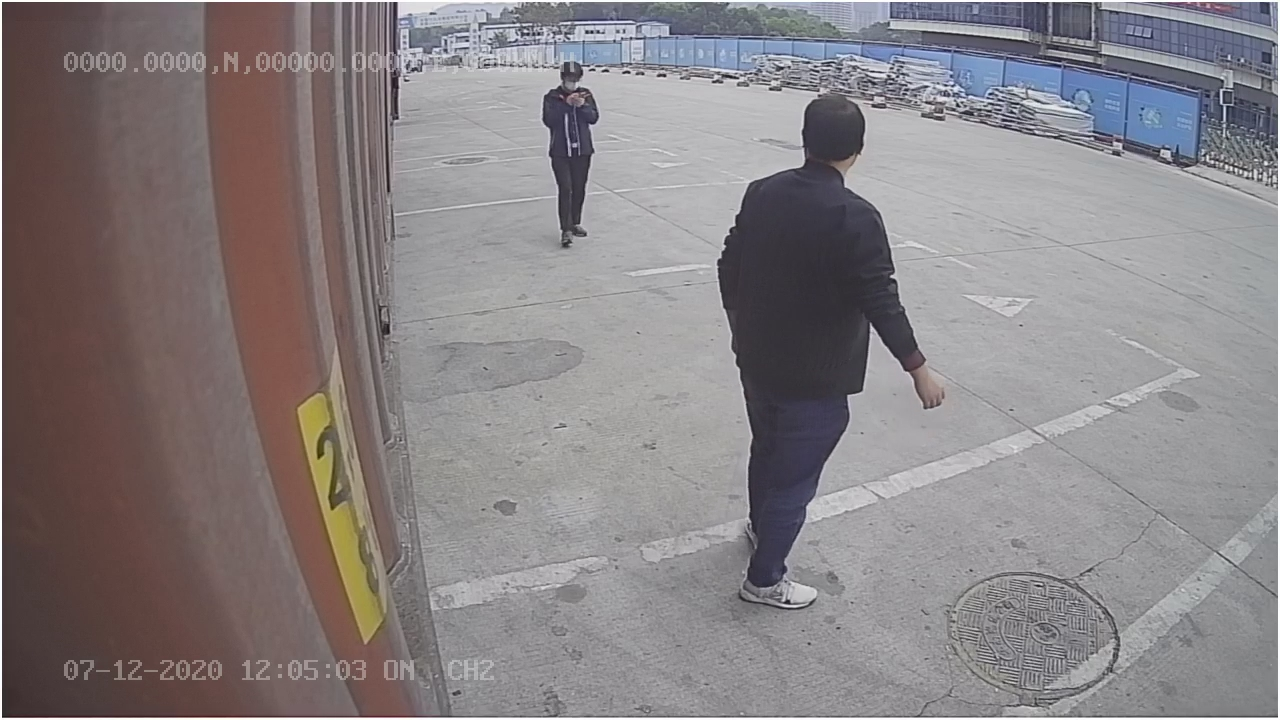person: (711, 85, 945, 619)
